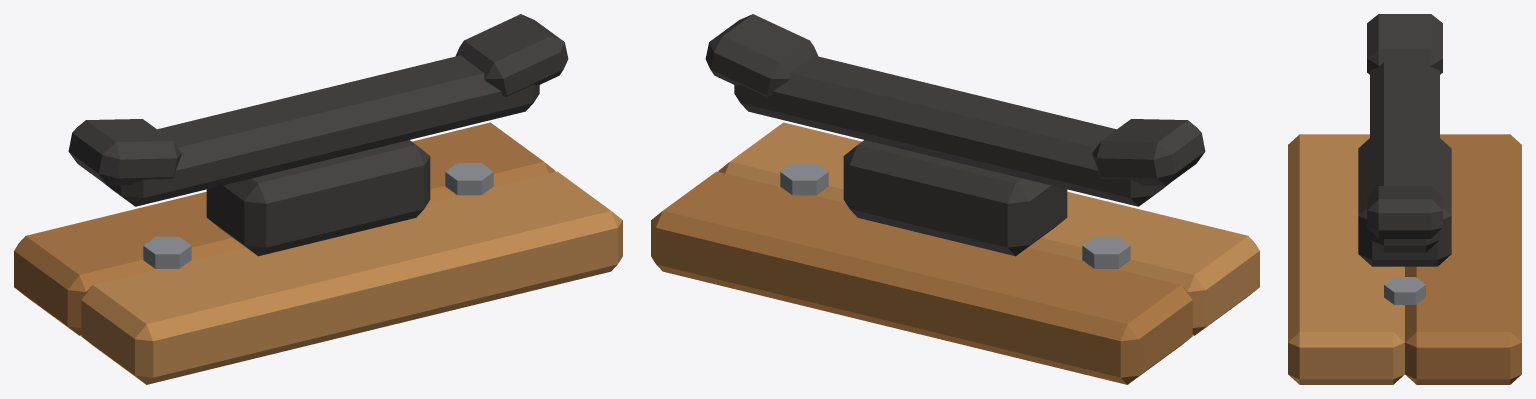
Rendered from mooring_cleat.glb.
The picture shows the model from 3 angles, left to right: view 1: azimuth 30°, elevation 25°; view 2: azimuth 150°, elevation 25°; view 3: azimuth 270°, elevation 25°; orthographic projection. The views are drawn at different scales.
Parts seen in each view (by area): view 1: mooring_cleat; view 2: mooring_cleat; view 3: mooring_cleat.
Boxes of the visible parts, left/top/right/bottom form: mooring_cleat: left=14, top=14, right=622, bottom=384; mooring_cleat: left=651, top=14, right=1259, bottom=384; mooring_cleat: left=1288, top=14, right=1521, bottom=384.
Bounding box in the file's own units: 0.42 × 0.1694 × 0.2.
